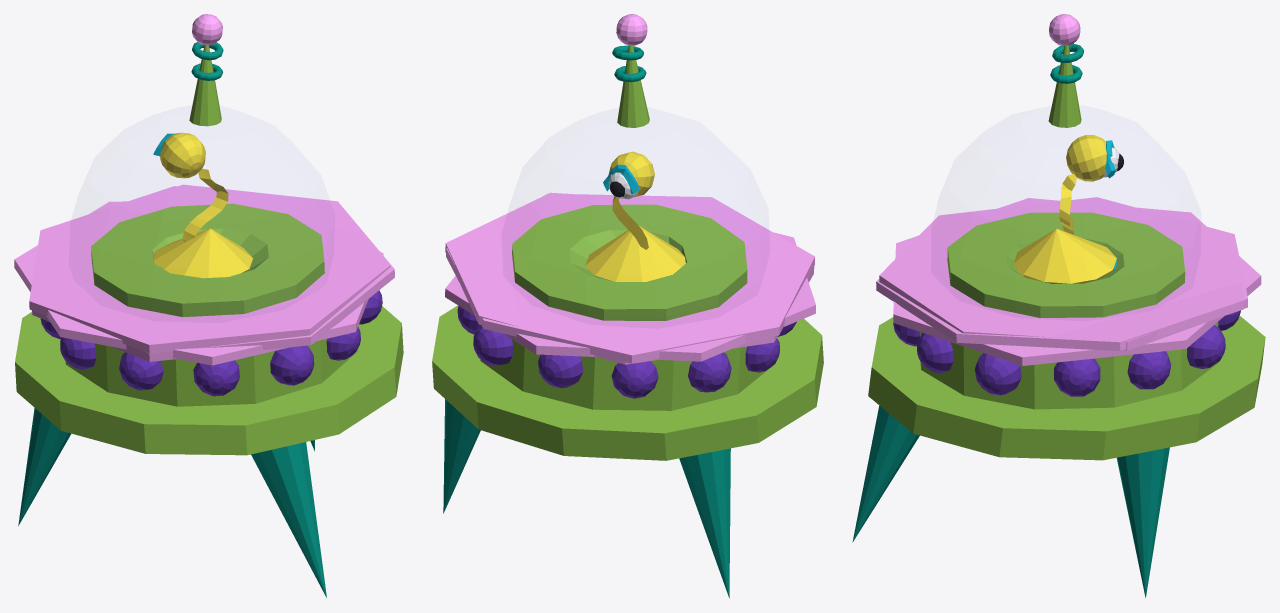
3 renders of one model, left to right at view 1: azimuth 30°, elevation 25°; view 2: azimuth 150°, elevation 25°; view 3: azimuth 270°, elevation 25°, orthographic.
Visible parts, largest first — view 1: node_MeshObject1310210048-PolyPaper2, node_MeshObject1443717440-PolyGem25; view 2: node_MeshObject1310210048-PolyPaper2, node_MeshObject1443717440-PolyGem25; view 3: node_MeshObject1310210048-PolyPaper2, node_MeshObject1443717440-PolyGem25.
Boxes of the visible parts, x1=… form: node_MeshObject1310210048-PolyPaper2: x1=15, y1=42, x2=403, y2=597; node_MeshObject1443717440-PolyGem25: x1=14, y1=14, x2=394, y2=365; node_MeshObject1310210048-PolyPaper2: x1=432, y1=45, x2=823, y2=598; node_MeshObject1443717440-PolyGem25: x1=445, y1=14, x2=815, y2=364; node_MeshObject1310210048-PolyPaper2: x1=852, y1=43, x2=1265, y2=597; node_MeshObject1443717440-PolyGem25: x1=876, y1=14, x2=1261, y2=365.
Bounding box in the file's own units: 0.5838 × 0.8498 × 0.6121.
